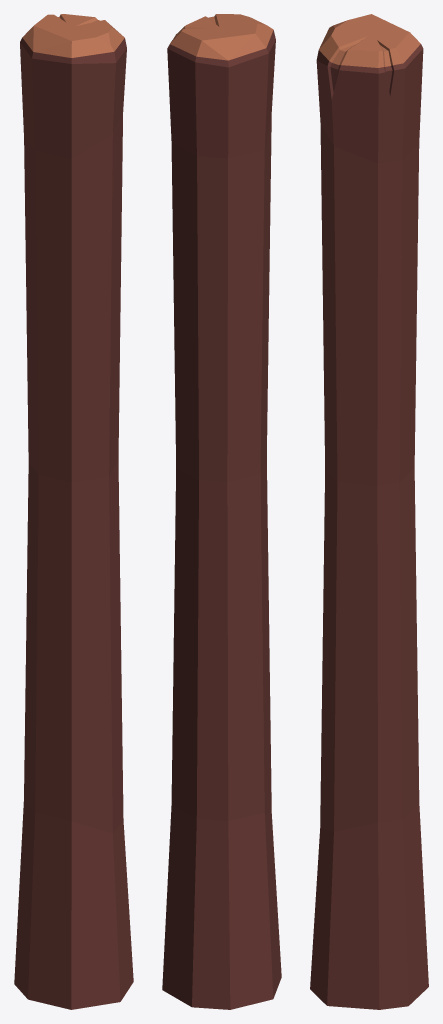
The model's file is Wooden Pole Blunt 10.fbx.
3 views of the same model, side by side, from view 1: azimuth 90°, elevation 25°; view 2: azimuth 150°, elevation 25°; view 3: azimuth 270°, elevation 25° (orthographic).
Parts seen in each view (by area): view 1: Wooden Pole Blunt 10; view 2: Wooden Pole Blunt 10; view 3: Wooden Pole Blunt 10.
Part boxes in pixels (x1=…): Wooden Pole Blunt 10: x1=14, y1=14, x2=133, y2=1009; Wooden Pole Blunt 10: x1=162, y1=14, x2=281, y2=1009; Wooden Pole Blunt 10: x1=310, y1=14, x2=428, y2=1009.
Size of the model in its own units: 30.64 by 280 by 31.62.
